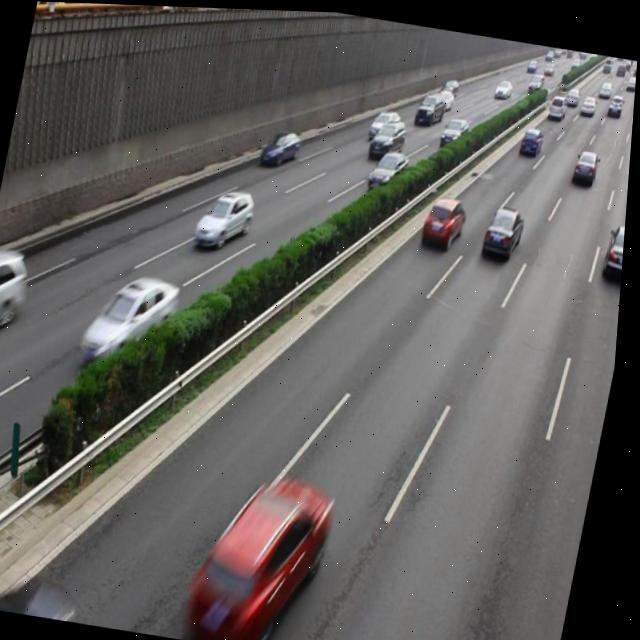car: (190, 458, 345, 640), (83, 262, 186, 372), (0, 245, 38, 374), (0, 568, 88, 621), (195, 182, 259, 253), (421, 188, 472, 250), (480, 198, 528, 260), (366, 143, 411, 191), (261, 121, 303, 169), (369, 112, 407, 158), (602, 217, 628, 279), (437, 109, 471, 153), (368, 102, 401, 138), (572, 142, 599, 179)
